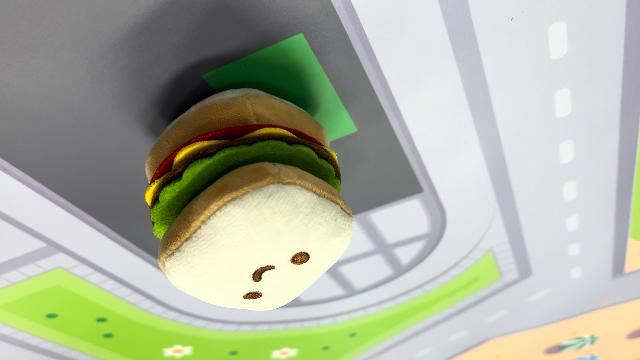sandwich: (142, 85, 356, 311)
